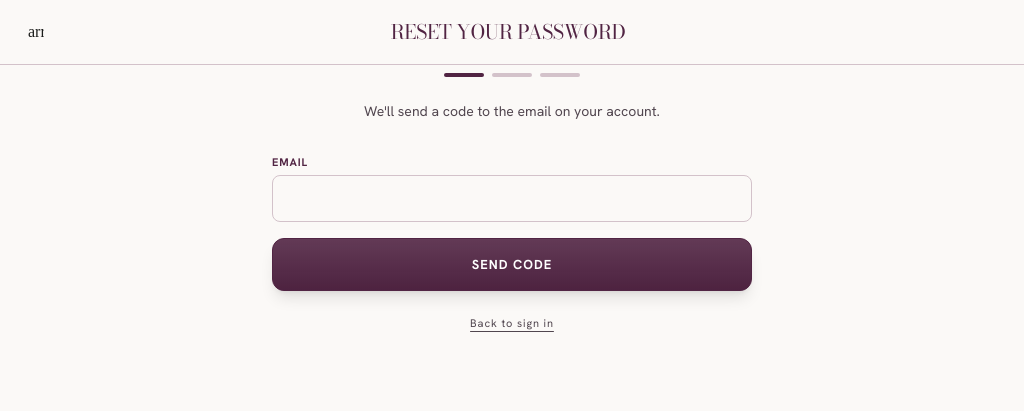
ForgotPasswordView (A-05) › moves to the OTP step after entering an email
Step 1. Type "layla@mooday.app" into the field labelled "Email" → (512, 198), box [272,174,752,222]
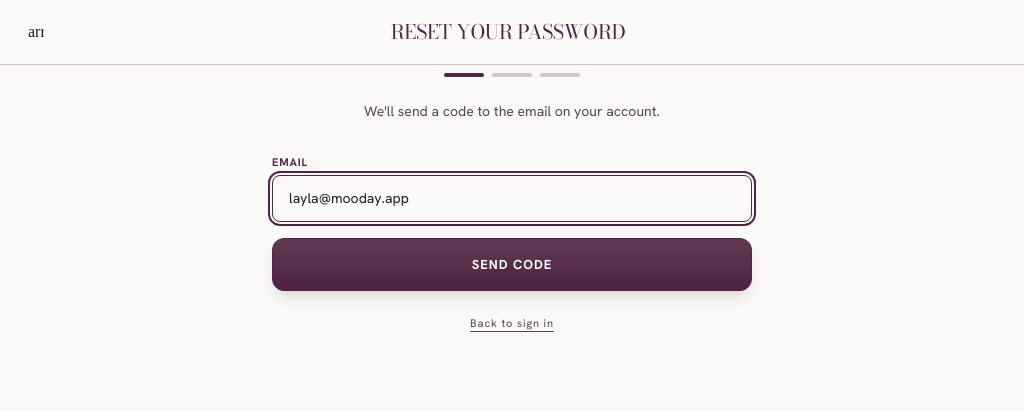
Step 2. Click the button "Send code" → (512, 264), box [272,238,752,291]
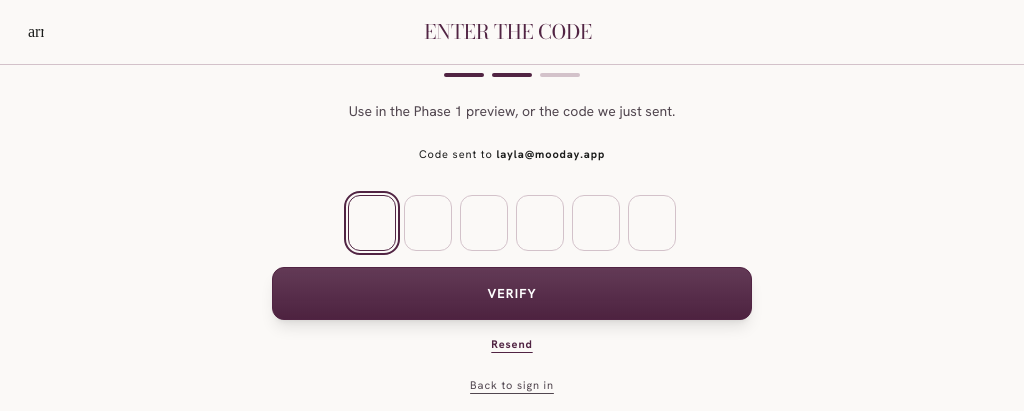
Check: the heading "Enter the code" is shown, box [424,16,592,47]
